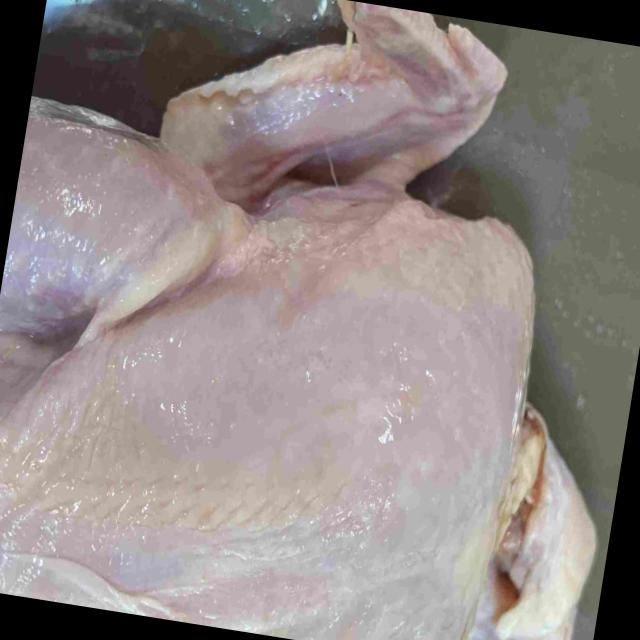breast: (0, 219, 530, 640)
leg: (0, 97, 225, 339)
neck: (468, 408, 592, 640)
wing: (160, 0, 508, 217)
